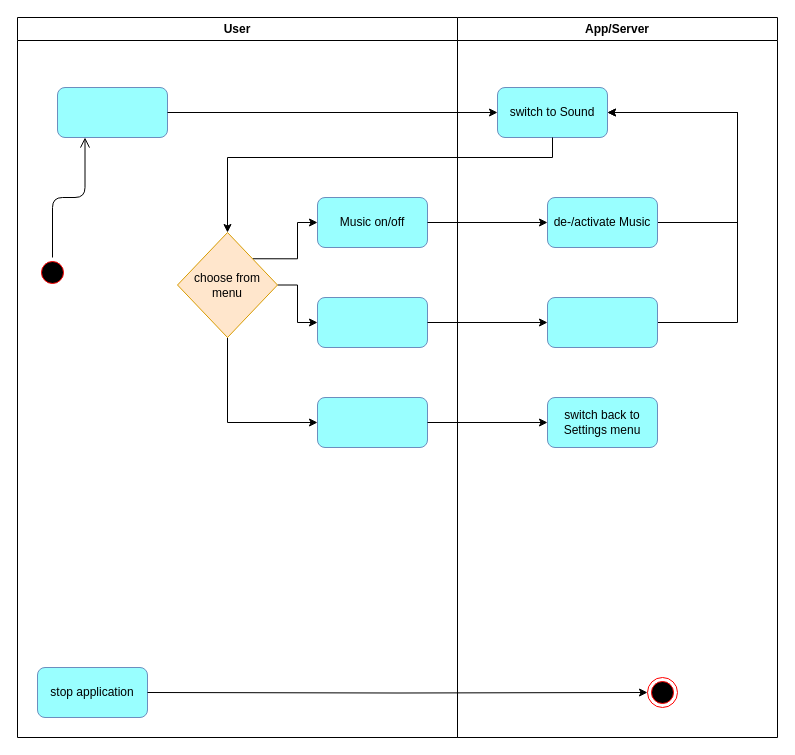
This 795x755 diagram has some shape labels left out. The shapes that lost their labels are listed below. From the top down, each one's box as (x1, y1, x2, y2) in pixels, then its label:
(56, 86, 168, 138): choose Sound
(316, 296, 428, 348): Effect Sound on/off
(546, 296, 658, 348): de-/activate Effect Sound
(316, 396, 428, 448): press Sound again
